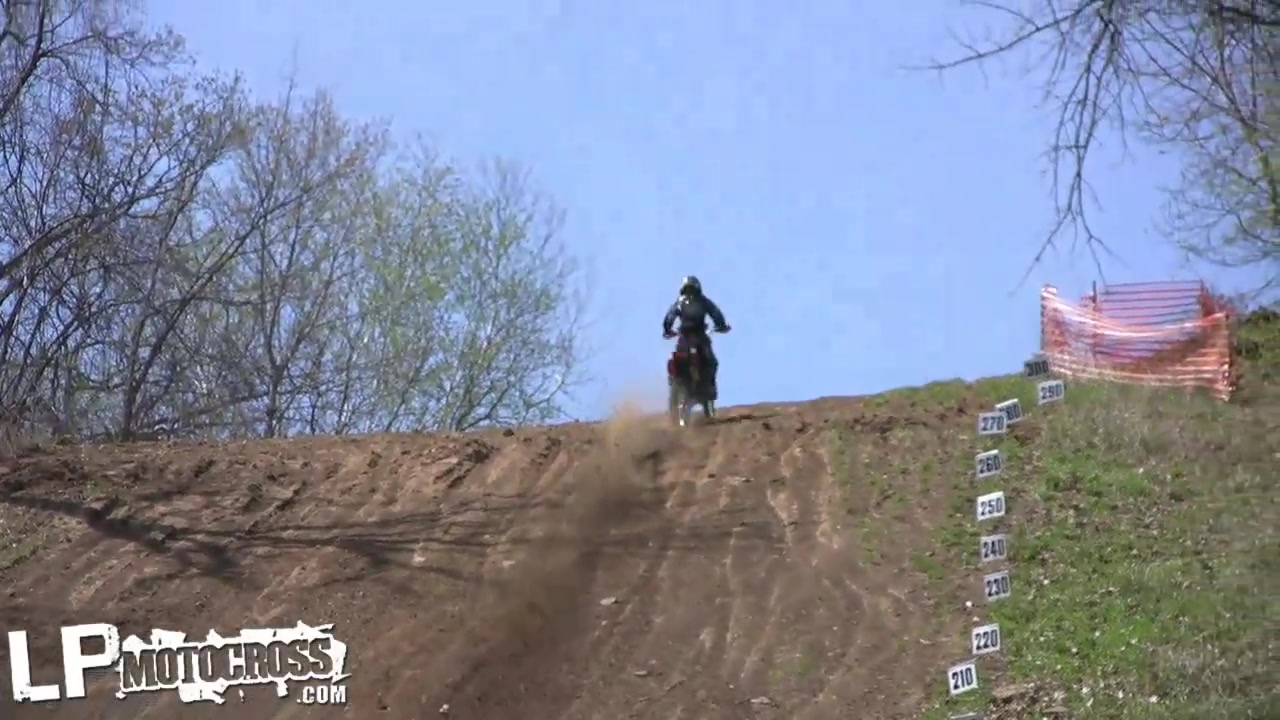motorbike: (660, 326, 736, 430)
